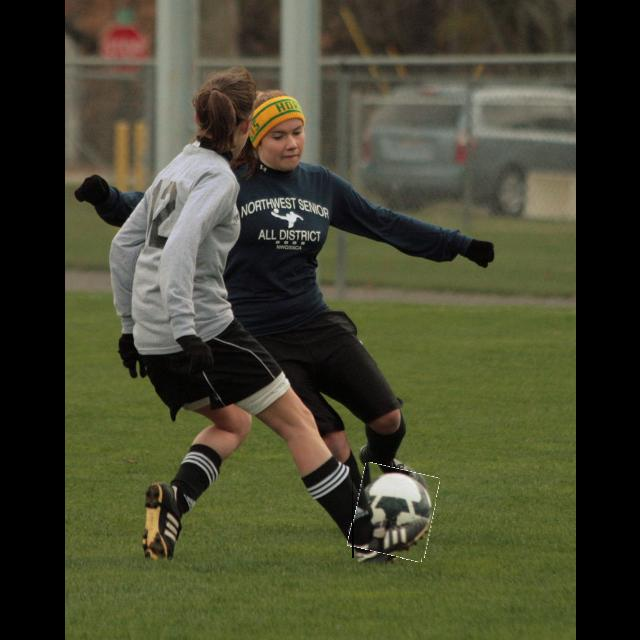Football: (352, 466, 436, 558)
